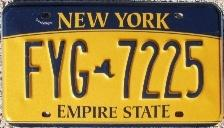2: (137, 38, 164, 100), (161, 38, 185, 99)
5: (183, 38, 207, 100)
7: (116, 37, 140, 102)
F: (21, 37, 47, 102)
G: (68, 37, 91, 101)
Y: (45, 36, 68, 101)
